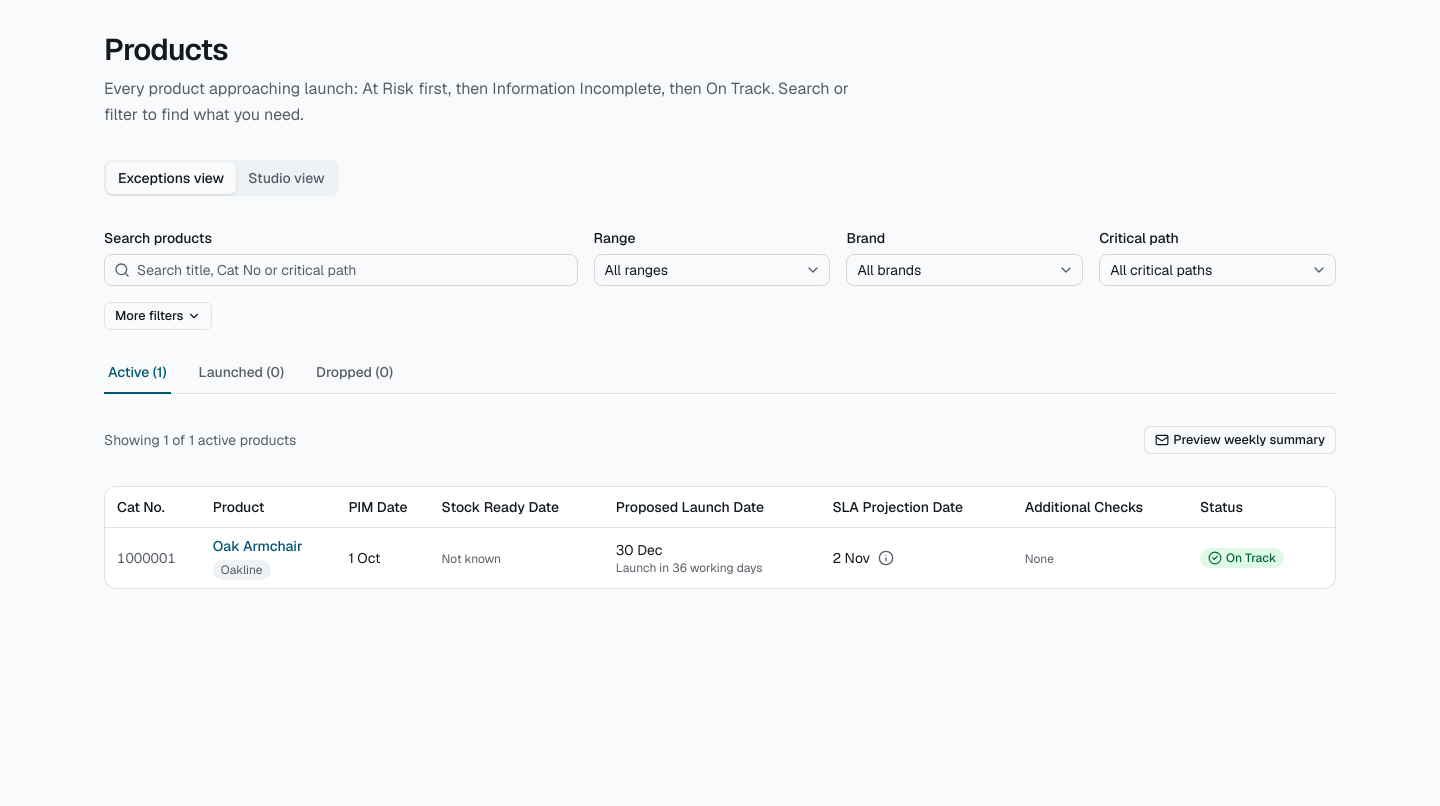
Test: ProductsView › only shows Clear all filters once a filter is active
Check: the button "Clear all filters" is not shown
Type "oak" into the search field labelled "Search products".
click(341, 270); type("oak")  # box [104,254,578,286]
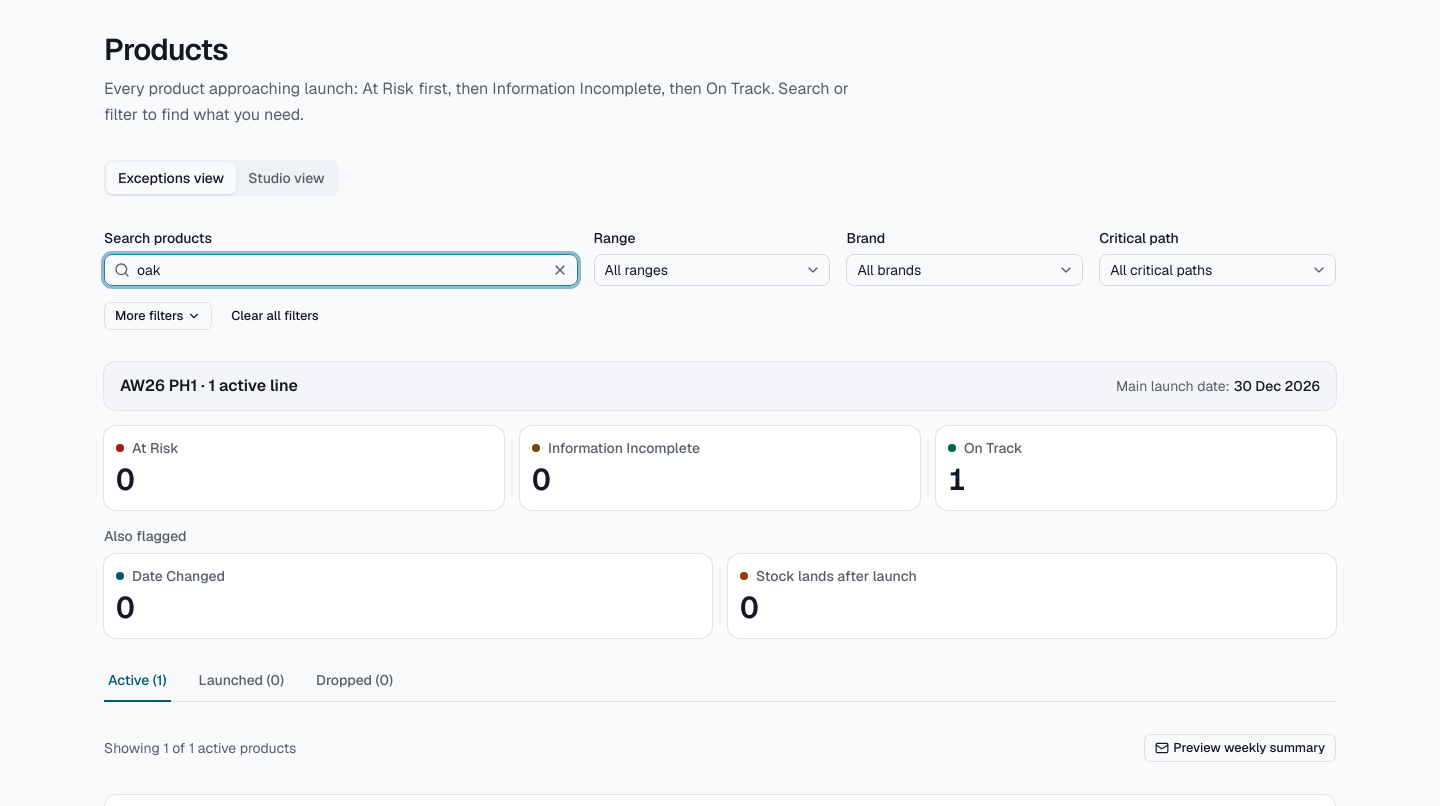
Check: the button "Clear all filters" is shown, box [220,302,330,330]
